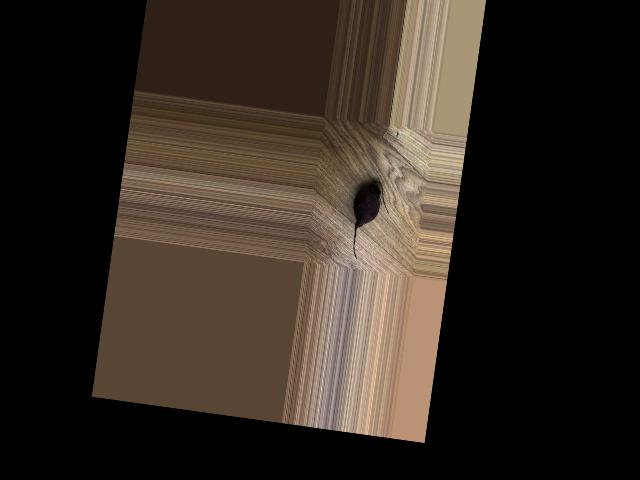beet: (345, 178, 392, 262)
